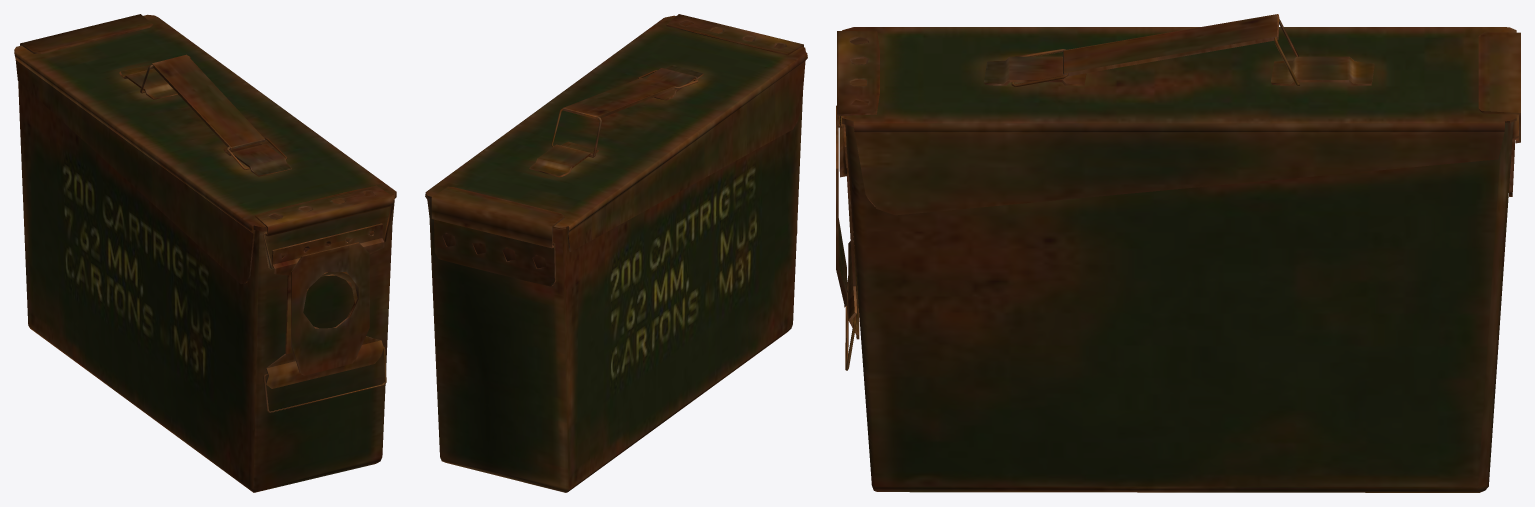
The model's file is ammo_box.glb.
3 views of the same model, side by side, from view 1: azimuth 30°, elevation 25°; view 2: azimuth 150°, elevation 25°; view 3: azimuth 270°, elevation 25° (orthographic). The views are drawn at different scales.
Parts seen in each view (by area): view 1: ammo_box, ammo_box_handle, ammo_box_latch; view 2: ammo_box, ammo_box_handle; view 3: ammo_box, ammo_box_handle.
Boxes of the visible parts, x1,y1,x2,y2 form: ammo_box: (14,14,396,492); ammo_box_handle: (151,54,265,149); ammo_box_latch: (263,347,386,412); ammo_box: (425,14,807,492); ammo_box_handle: (563,78,675,119); ammo_box: (836,27,1520,492); ammo_box_handle: (1063,14,1279,76).
Size of the model in its own units: 0.0865 by 0.1773 by 0.2576.
Materials: 1 (1 with a texture image).
